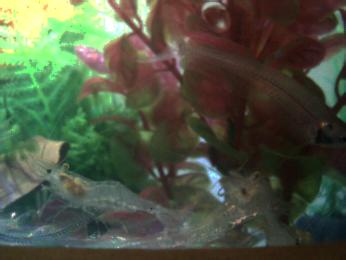glassfish: (134, 10, 346, 141), (1, 203, 125, 245)
siberian prawn: (31, 158, 181, 227), (213, 167, 300, 246)
